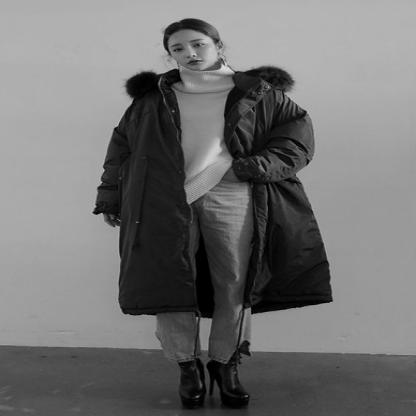dress: (98, 58, 353, 323), (129, 170, 275, 369)
